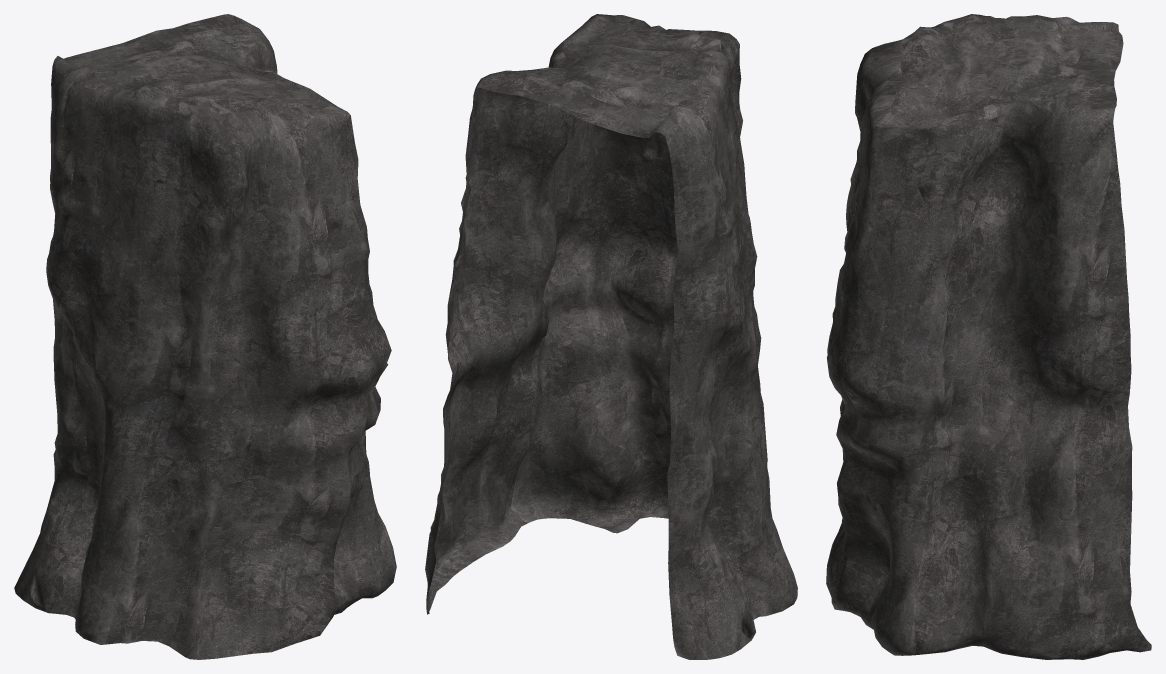
The model's file is Cliff_Wall_Modular_Big_001.fbx.
3 renders of one model, left to right at view 1: azimuth 30°, elevation 25°; view 2: azimuth 150°, elevation 25°; view 3: azimuth 270°, elevation 25°, orthographic. The views are drawn at different scales.
Parts seen in each view (by area): view 1: Cliff_Wall_Modular_Big_001_LOD0; view 2: Cliff_Wall_Modular_Big_001_LOD0; view 3: Cliff_Wall_Modular_Big_001_LOD0.
Boxes of the visible parts, x1=… form: Cliff_Wall_Modular_Big_001_LOD0: x1=14, y1=14, x2=396, y2=659; Cliff_Wall_Modular_Big_001_LOD0: x1=425, y1=14, x2=797, y2=659; Cliff_Wall_Modular_Big_001_LOD0: x1=826, y1=14, x2=1151, y2=659.
Size of what is drawn, in the model's own units: 13.64 by 22.98 by 12.52.
